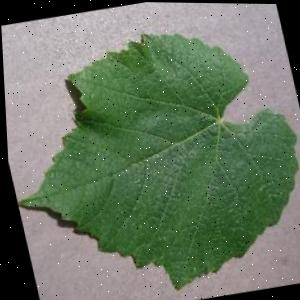Folha: (0, 7, 300, 300)
